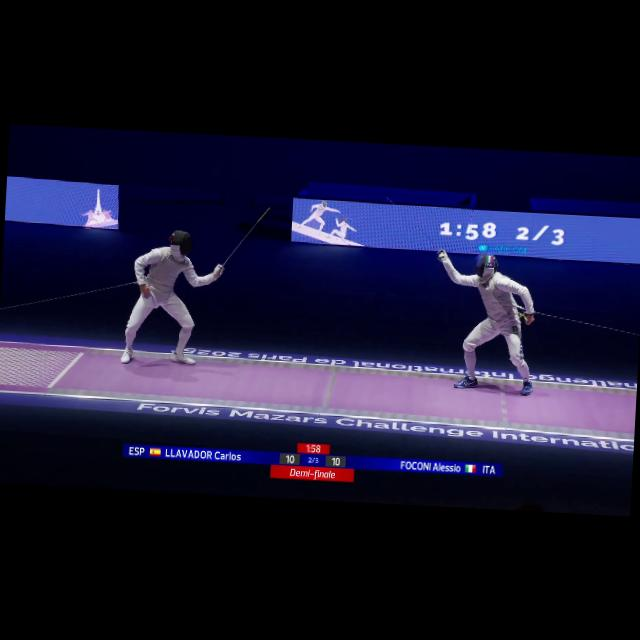blade: (381, 191, 454, 259), (216, 202, 274, 278)
